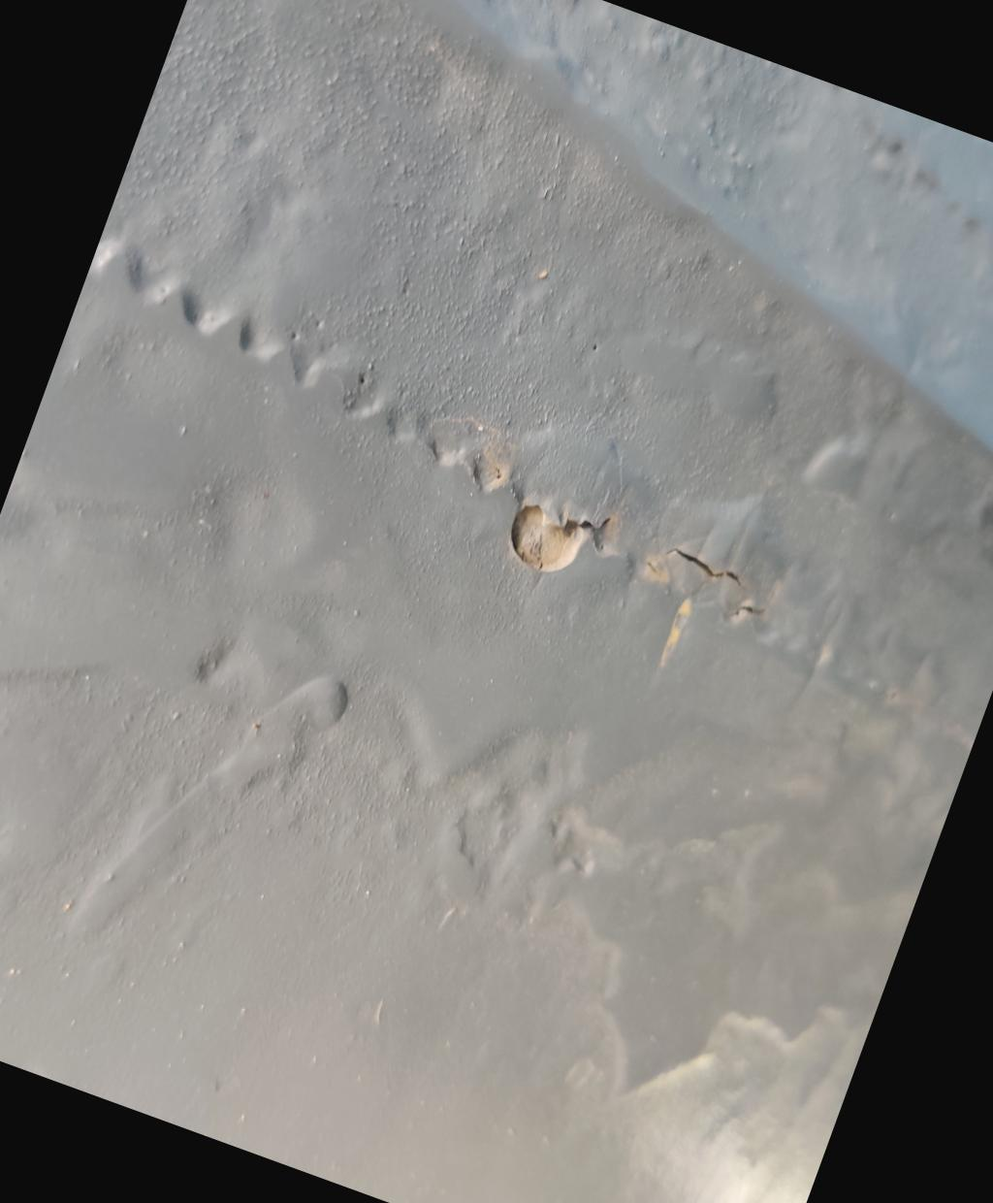crack: (435, 408, 809, 706)
